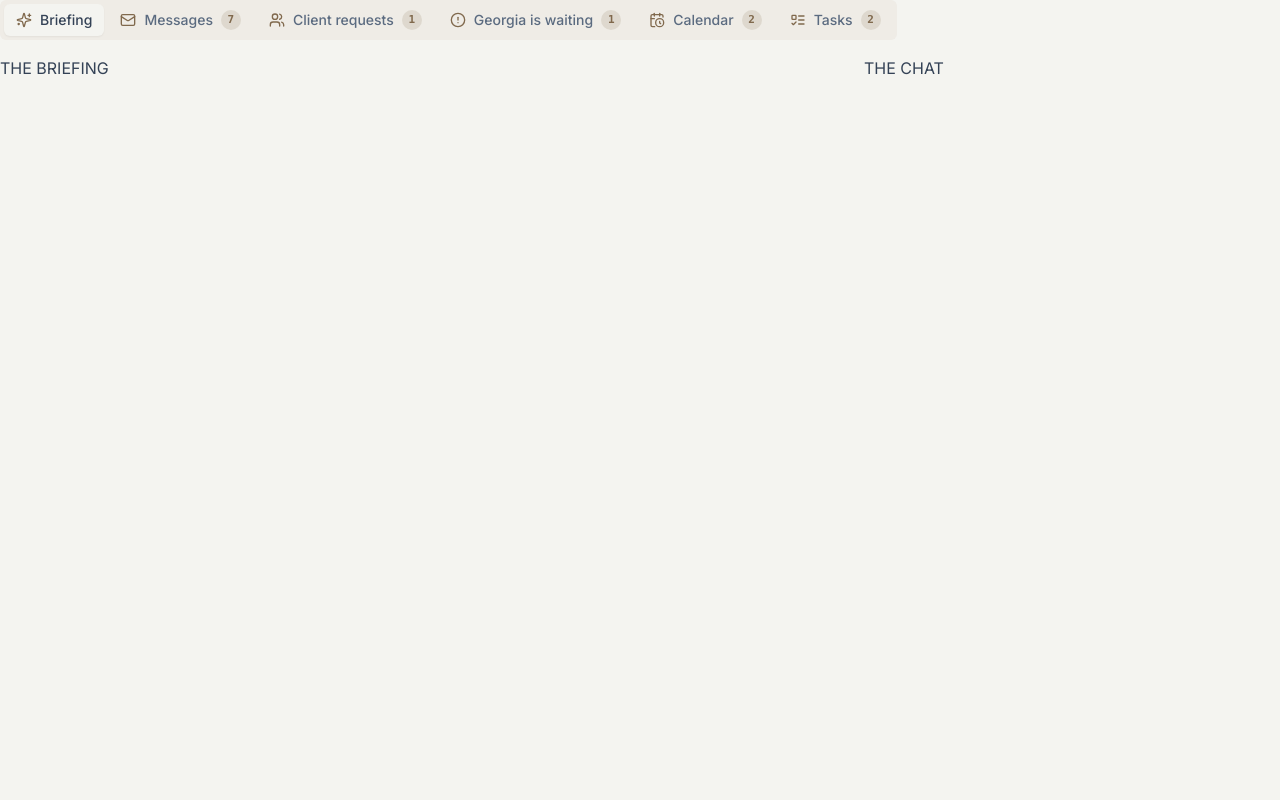
Scenario: the tabs and what they show › opens the calendar with today first, overlaps flagged, then the week
The width and height of the screenshot is (1280, 800).
Step 1. Press the mouse on the tab with test id "tile-calendar" → (705, 20), box [637,4,774,36]
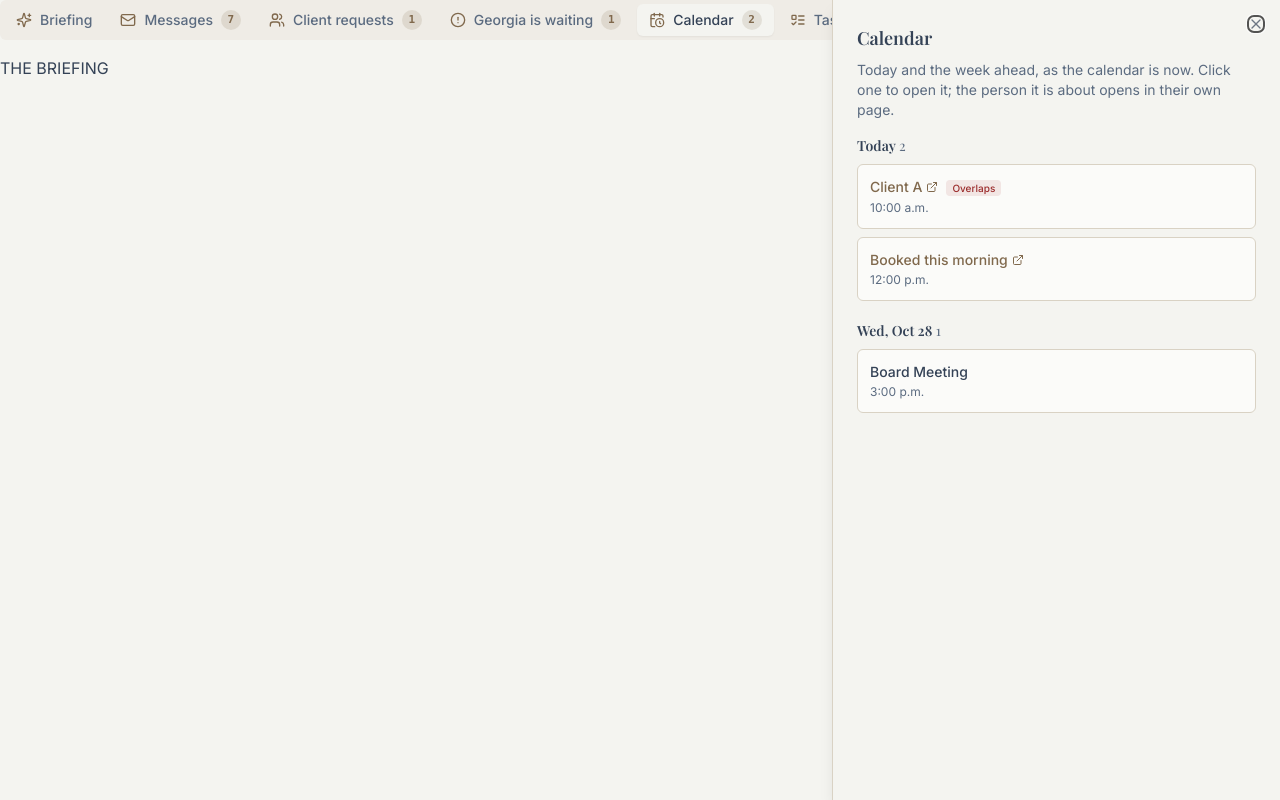
Expected: the element with test id "group-today" shows "Client A", [870,177,938,197]
Expected: the text "Overlaps" is shown, [946,180,1001,196]
Expected: the element with test id "group-day:2026-10-28" shows "Board Meeting", [870,363,968,380]
